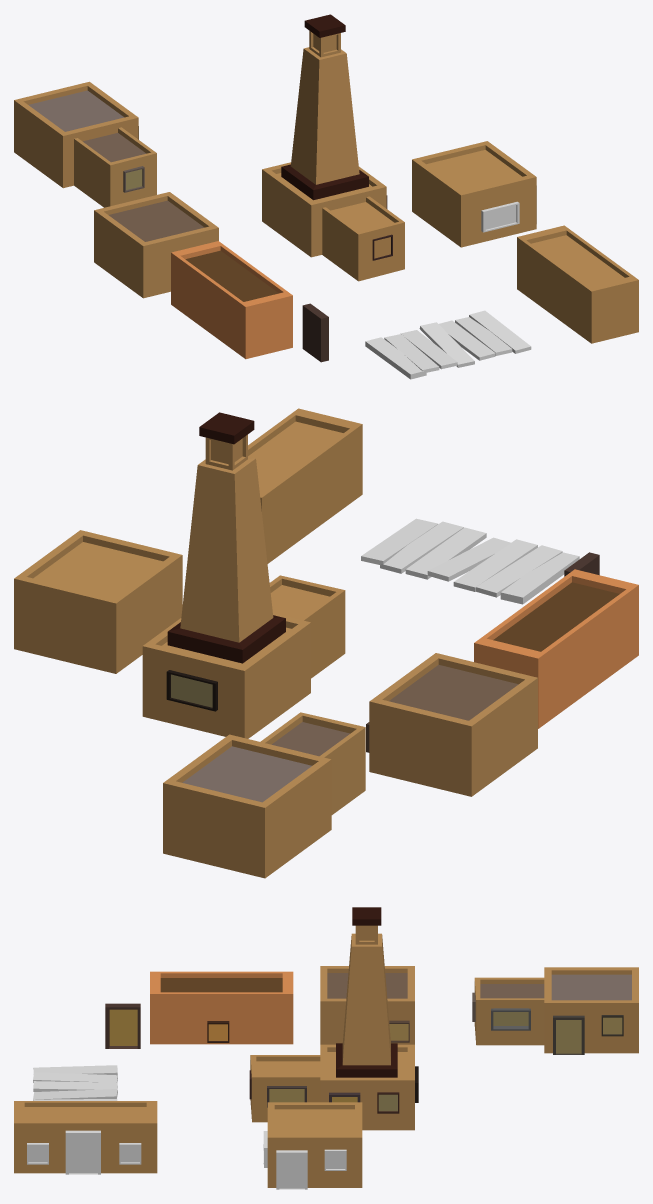
The model's file is Planks.fbx.
3 views of the same model, one above another, from view 1: azimuth 30°, elevation 25°; view 2: azimuth 150°, elevation 25°; view 3: azimuth 270°, elevation 25° (orthographic). The views are drawn at different scales.
Parts seen in each view (by area): view 1: House Long.002, House Long, Cube, House.004, House, House.003, House Long.001, House.001, House Long.003, Door.003, Plank.006, Plank.001 (+6 smaller); view 2: House, House.003, House.004, Cube, House Long, House.001, House Long.002, House Long.003, House Long.001, Plank.006, Window Long.002, Plank.002 (+5 smaller); view 3: House Long, House Long.002, Cube, House.004, House.003, House.001, House Long.003, House, House Long.001, Door.003, Door, Door.002 (+14 smaller).
Boxes of the visible parts, left/top/right/bottom form: House Long.002: left=517, top=225, right=638, bottom=343; House Long: left=171, top=241, right=292, bottom=359; Cube: left=281, top=14, right=368, bottom=200; House.004: left=412, top=141, right=536, bottom=247; House: left=94, top=192, right=218, bottom=298; House.003: left=14, top=81, right=138, bottom=188; House Long.001: left=322, top=196, right=404, bottom=281; House.001: left=262, top=162, right=386, bottom=257; House Long.003: left=74, top=127, right=156, bottom=207; Door.003: left=302, top=303, right=328, bottom=362; Plank.006: left=365, top=337, right=426, bottom=379; Plank.001: left=419, top=322, right=474, bottom=367; House: left=369, top=653, right=537, bottom=796; House.003: left=163, top=734, right=331, bottom=878; House.004: left=14, top=530, right=182, bottom=673; Cube: left=167, top=412, right=285, bottom=663; House Long: left=474, top=569, right=638, bottom=728; House.001: left=142, top=613, right=310, bottom=738; House Long.002: left=248, top=408, right=362, bottom=563; House Long.003: left=260, top=712, right=365, bottom=814; House Long.001: left=269, top=575, right=345, bottom=678; Plank.006: left=500, top=552, right=579, bottom=604; Window Long.002: left=166, top=670, right=217, bottom=711; Plank.002: left=405, top=527, right=486, bottom=579; House Long: left=150, top=971, right=293, bottom=1044; House Long.002: left=14, top=1101, right=157, bottom=1173; Cube: left=336, top=907, right=397, bottom=1077; House.004: left=267, top=1102, right=362, bottom=1187; House.003: left=544, top=967, right=638, bottom=1053; House.001: left=320, top=1044, right=414, bottom=1130; House Long.003: left=474, top=977, right=544, bottom=1045; House: left=320, top=966, right=414, bottom=1044; House Long.001: left=250, top=1055, right=320, bottom=1122; Door.003: left=105, top=1003, right=140, bottom=1048; Door: left=65, top=1130, right=100, bottom=1174; Door.002: left=553, top=1015, right=584, bottom=1054.
Bounding box in the file's own units: 4575 × 2461 × 6941.
